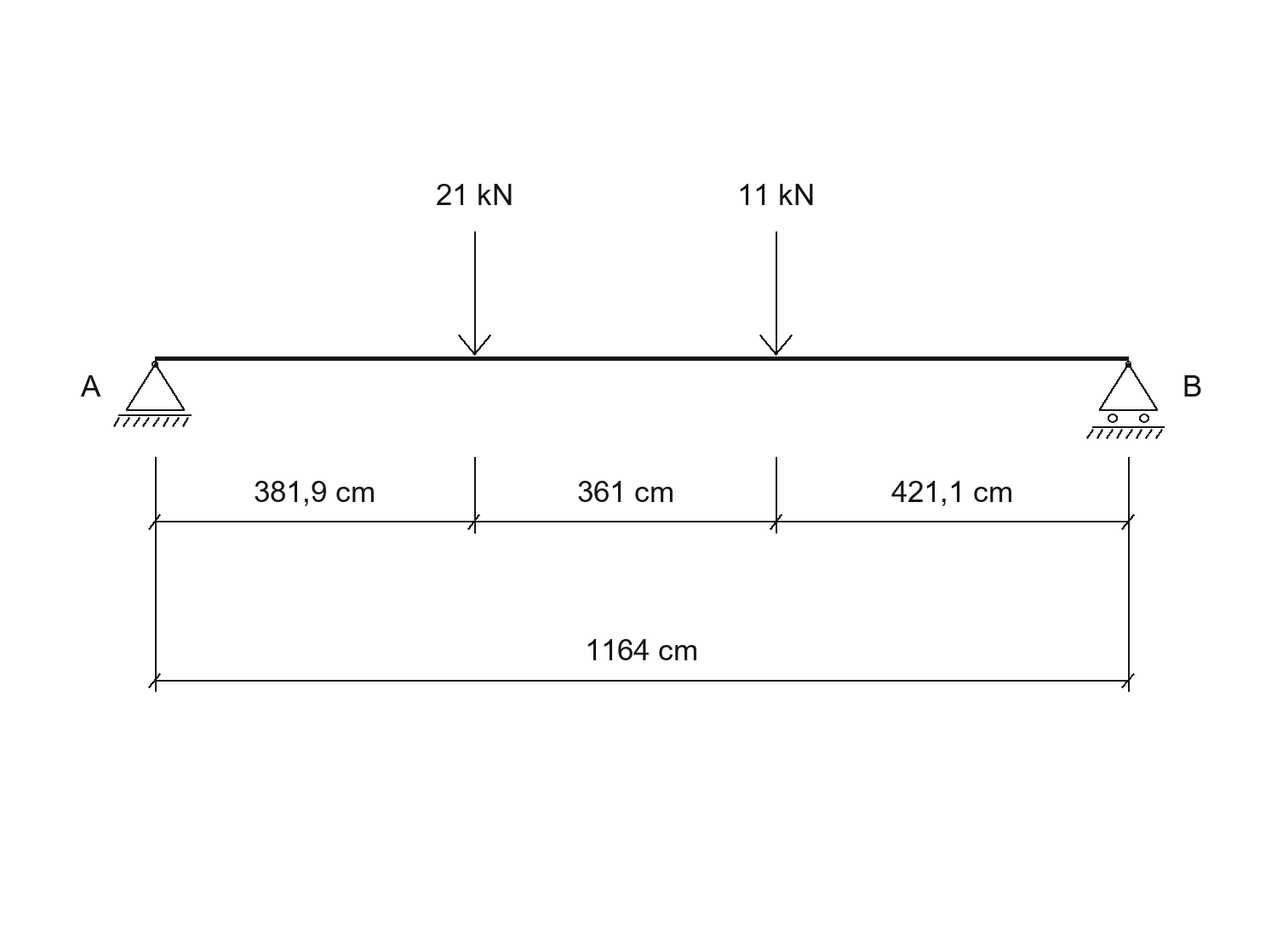pin_support: (113, 361, 192, 427)
point_load: (759, 231, 793, 356), (458, 231, 491, 356)
roller_support: (1086, 361, 1165, 439)
